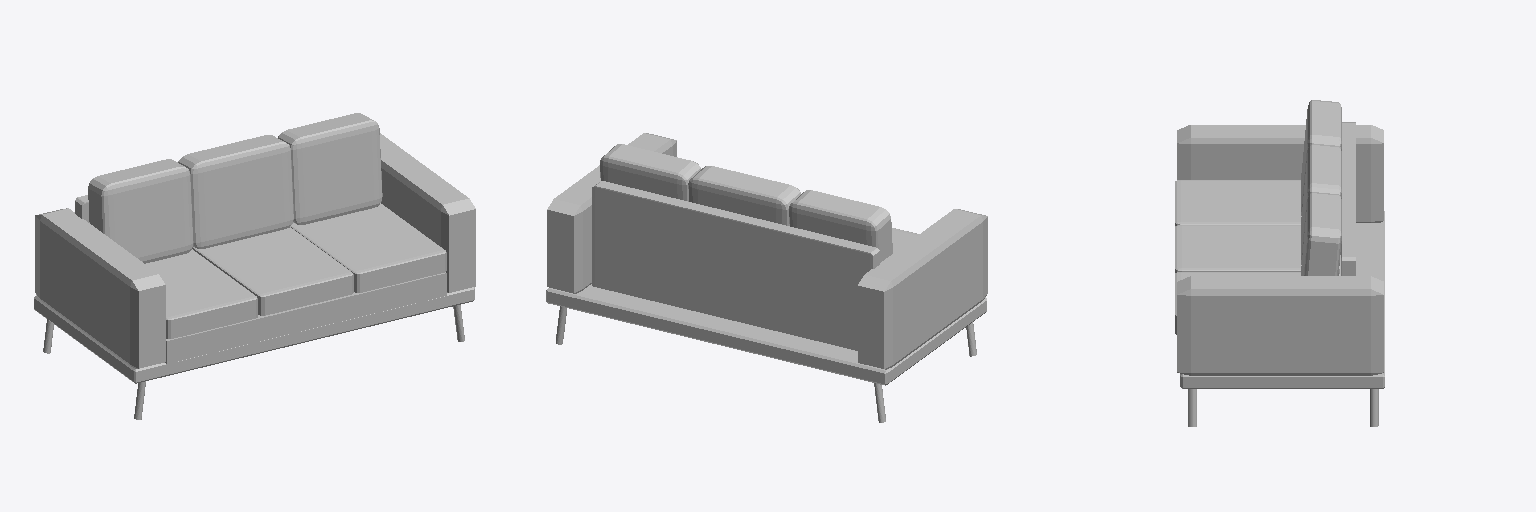
Rendered from divano.obj.
3 views of the same model, side by side, from view 1: azimuth 30°, elevation 25°; view 2: azimuth 150°, elevation 25°; view 3: azimuth 270°, elevation 25° (orthographic).
Visible parts, largest first — view 1: sofa_Cylinder.001; view 2: sofa_Cylinder.001; view 3: sofa_Cylinder.001.
Part boxes in pixels (left/top/right/bottom): sofa_Cylinder.001: left=34, top=113, right=475, bottom=419; sofa_Cylinder.001: left=546, top=133, right=987, bottom=422; sofa_Cylinder.001: left=1175, top=100, right=1384, bottom=426.
Bounding box in the file's own units: 8.01 × 4.14 × 4.26.